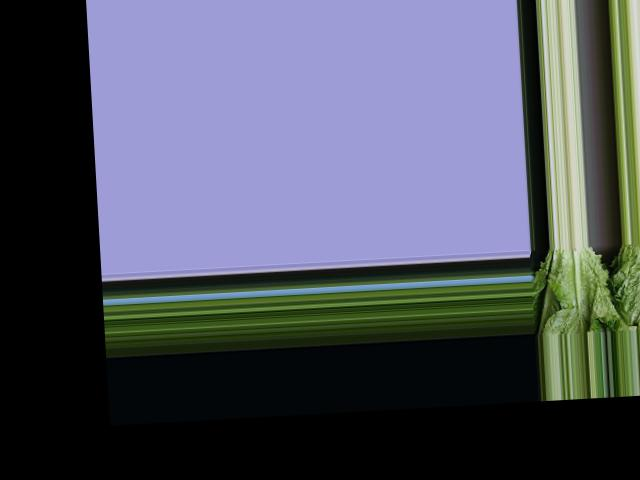lettuce: (612, 241, 640, 326)
